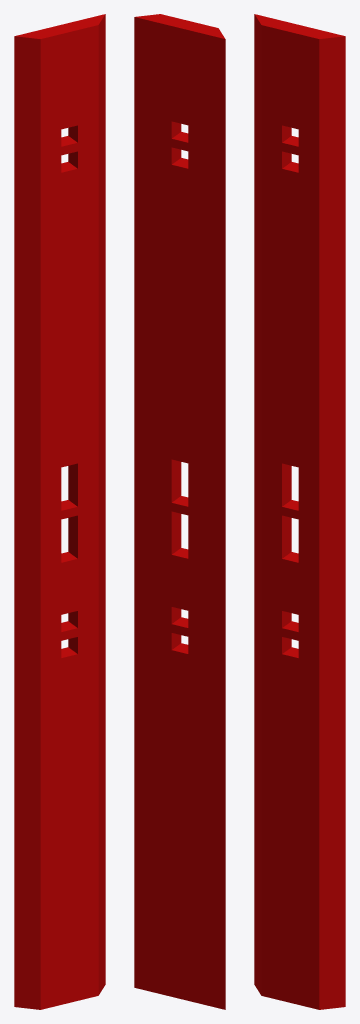
Rendered from original-25.obj.
The picture shows the model from 3 angles, left to right: view 1: azimuth 30°, elevation 25°; view 2: azimuth 150°, elevation 25°; view 3: azimuth 330°, elevation 25°; orthographic projection.
Visible parts, largest first — view 1: Leg_pt2/Leg_pt12/mesh31/mesh31-geometry#mesh31-geometry; view 2: Leg_pt2/Leg_pt12/mesh31/mesh31-geometry#mesh31-geometry; view 3: Leg_pt2/Leg_pt12/mesh31/mesh31-geometry#mesh31-geometry.
Boxes of the visible parts, x1,y1,x2,y2 form: Leg_pt2/Leg_pt12/mesh31/mesh31-geometry#mesh31-geometry: [14, 14, 105, 1009]; Leg_pt2/Leg_pt12/mesh31/mesh31-geometry#mesh31-geometry: [134, 14, 225, 1009]; Leg_pt2/Leg_pt12/mesh31/mesh31-geometry#mesh31-geometry: [254, 14, 345, 1009].
Bounding box in the file's own units: 0.1 × 1.02 × 0.0182.
